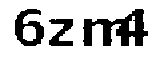4: (118, 10, 158, 47)
6: (12, 5, 44, 50)
m: (80, 13, 129, 50)
z: (46, 14, 76, 51)
